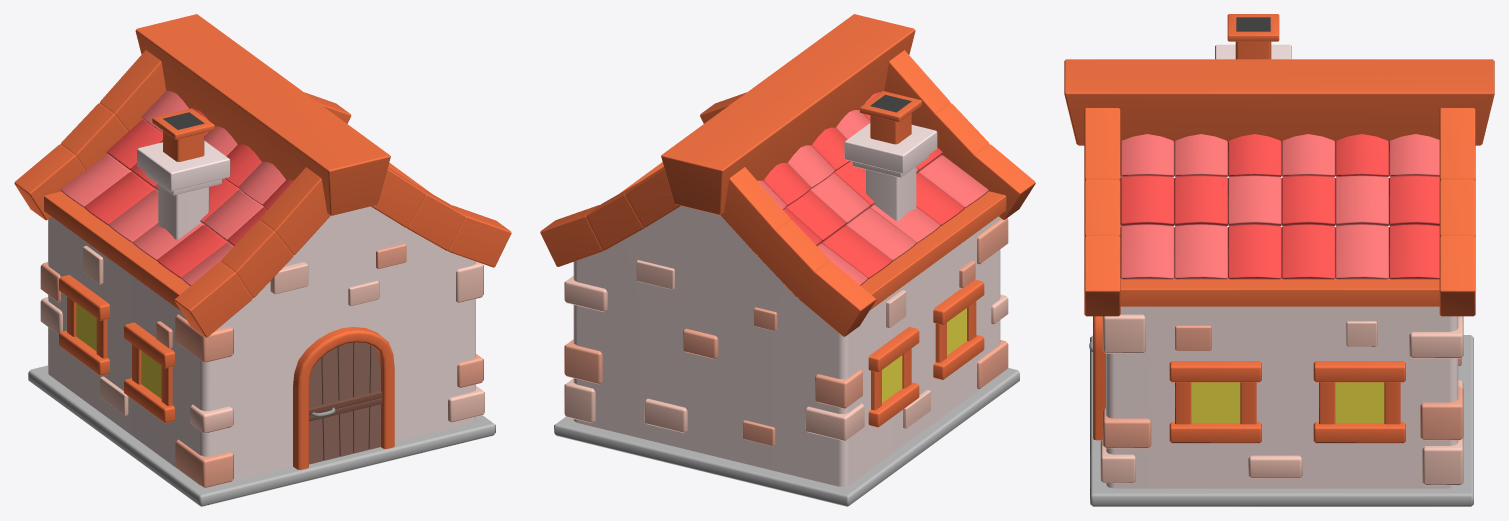
Rendered from Farm_15_House_1.glb.
3 renders of one model, left to right at view 1: azimuth 30°, elevation 25°; view 2: azimuth 150°, elevation 25°; view 3: azimuth 270°, elevation 25°, orthographic. The views are drawn at different scales.
Parts seen in each view (by area): view 1: Farm_15_House_1; view 2: Farm_15_House_1; view 3: Farm_15_House_1.
Part boxes in pixels (x1,y1,x2,y2): Farm_15_House_1: (14, 14, 511, 506); Farm_15_House_1: (540, 14, 1035, 506); Farm_15_House_1: (1064, 14, 1494, 506).
Size of the model in its own units: 6.21 by 5.88 by 6.48.
1 material, 1 textured.
